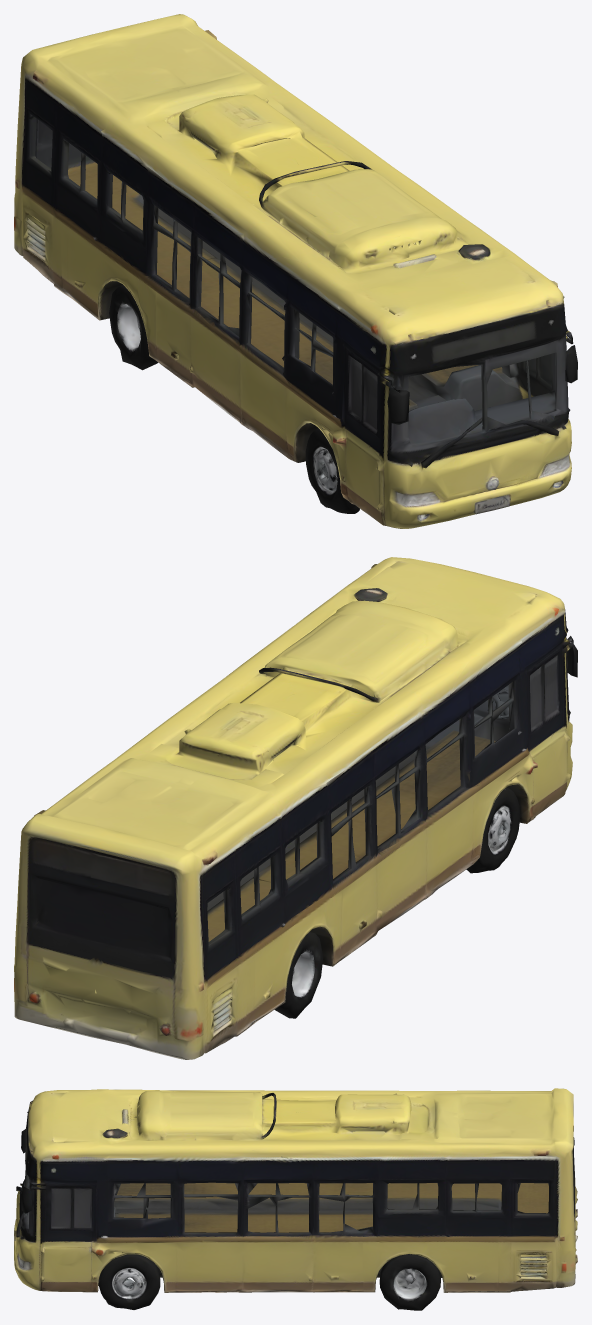
File: bus-source.glb
3 views of the same model, one above another, from view 1: azimuth 30°, elevation 25°; view 2: azimuth 150°, elevation 25°; view 3: azimuth 270°, elevation 25° (orthographic). The views are drawn at different scales.
Parts seen in each view (by area): view 1: tripo_node_3187ddbf-d31d-474d-8944-c5b5e8bcef55; view 2: tripo_node_3187ddbf-d31d-474d-8944-c5b5e8bcef55; view 3: tripo_node_3187ddbf-d31d-474d-8944-c5b5e8bcef55.
Boxes of the visible parts, <box> form: tripo_node_3187ddbf-d31d-474d-8944-c5b5e8bcef55: <box>14,14,577,528</box>; tripo_node_3187ddbf-d31d-474d-8944-c5b5e8bcef55: <box>14,557,577,1059</box>; tripo_node_3187ddbf-d31d-474d-8944-c5b5e8bcef55: <box>14,1088,577,1310</box>.
Size of the model in its own units: 0.2922 by 0.3498 by 1.
1 material, 1 textured.
